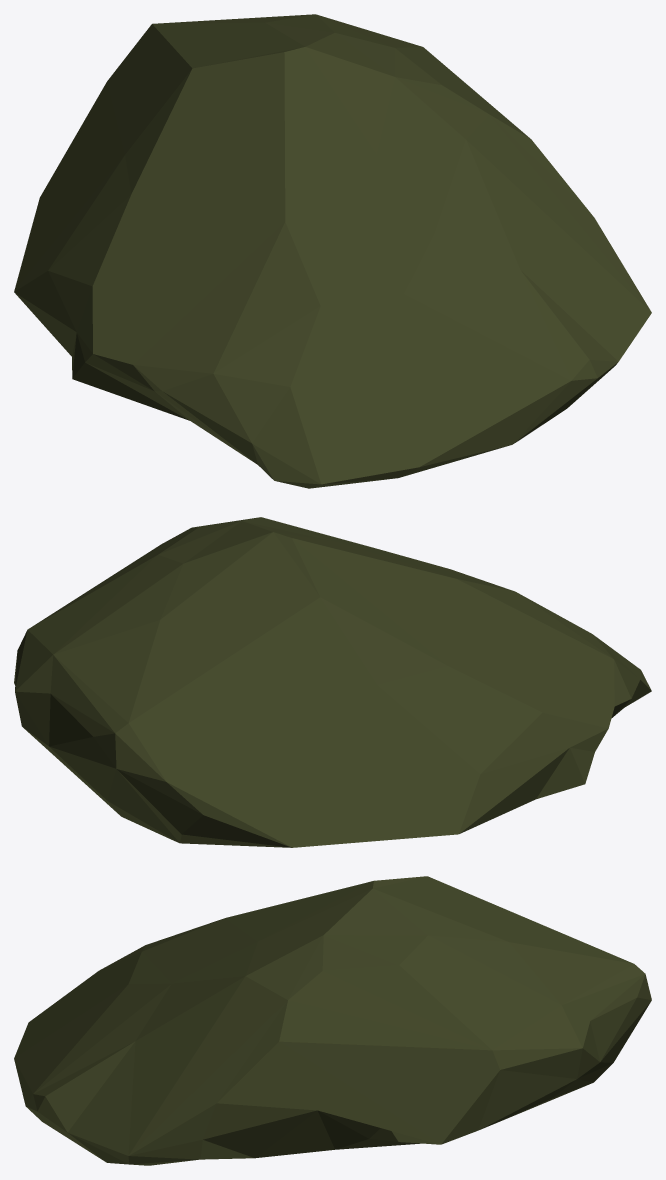
File: SM_small_rock_37.fbx
The picture shows the model from 3 angles, top to bottom: view 1: azimuth 30°, elevation 25°; view 2: azimuth 150°, elevation 25°; view 3: azimuth 270°, elevation 25°; orthographic projection. The views are drawn at different scales.
Visible parts, largest first — view 1: small_rock_37; view 2: small_rock_37; view 3: small_rock_37.
Boxes of the visible parts, x1=… form: small_rock_37: x1=14, y1=14, x2=651, y2=488; small_rock_37: x1=14, y1=517, x2=651, y2=847; small_rock_37: x1=14, y1=876, x2=651, y2=1165.
Size of the model in its own units: 9.88 by 4.82 by 12.39.
